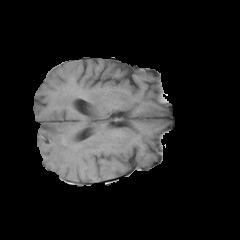glioma: (37, 98, 139, 177)
